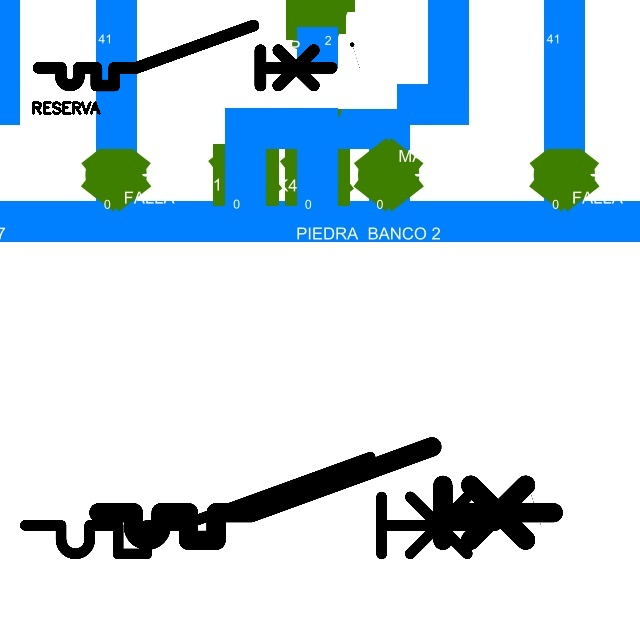interruptor_termomagnetico: (13, 445, 508, 566), (87, 435, 565, 552), (31, 18, 339, 93)
